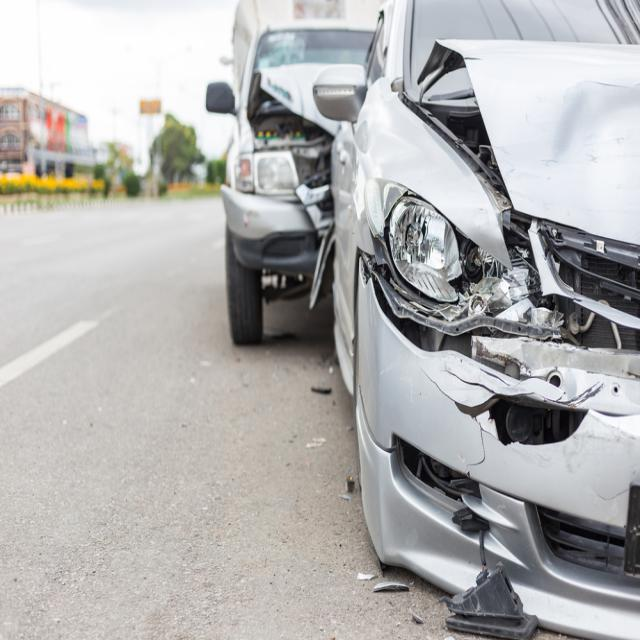crack: (418, 363, 591, 472), (443, 355, 521, 387)
dent: (498, 86, 640, 243)
lamp broken: (386, 195, 548, 334)
